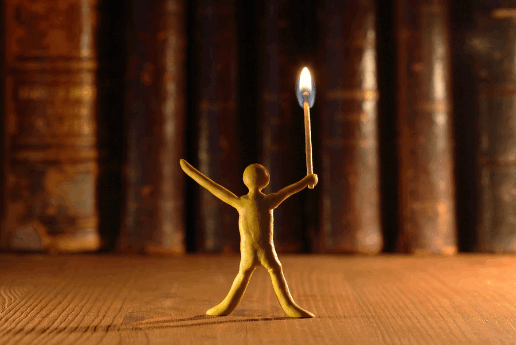Fire: (290, 60, 325, 108)
